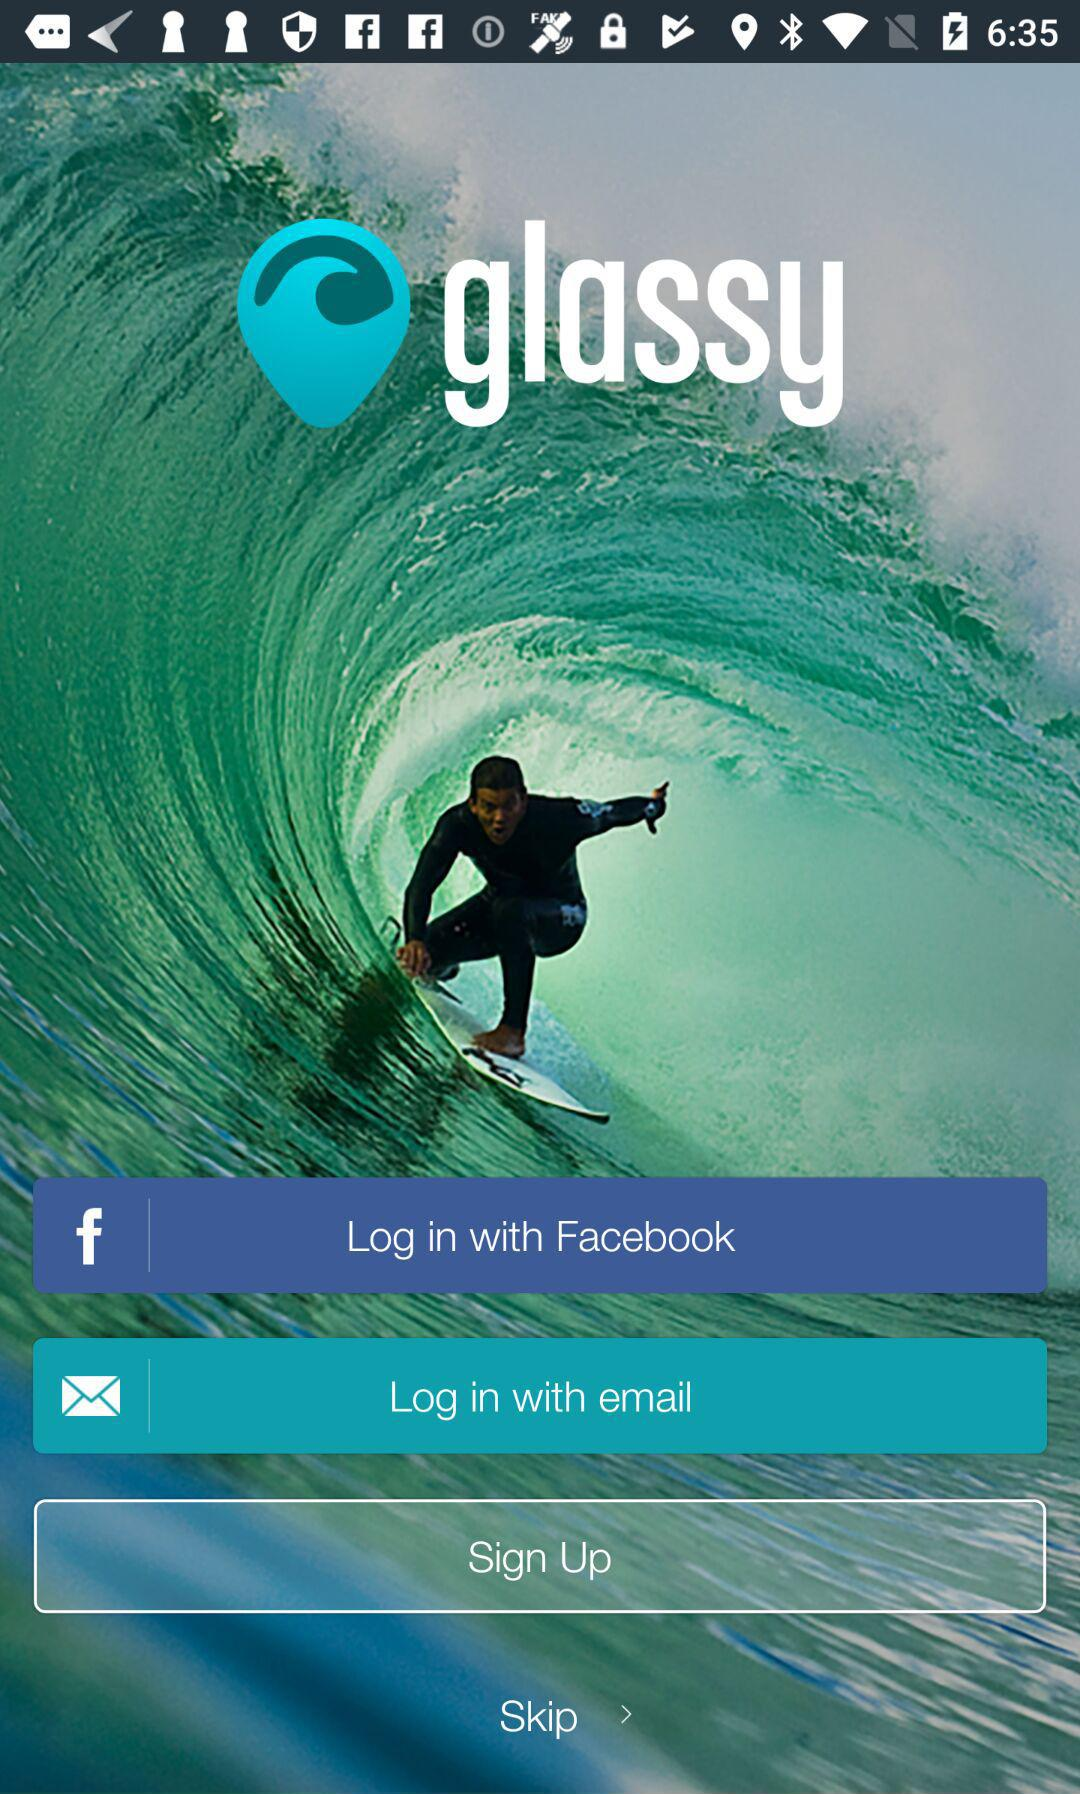BackgroundImage: (1, 64, 1080, 1794)
Icon: (620, 1704, 633, 1725)
Image: (236, 218, 846, 431)
Text: (500, 1699, 579, 1740)
TextButton: (33, 1338, 1048, 1454), (33, 1178, 1048, 1294), (35, 1498, 1047, 1615)
UpperTaskBar: (1, 1, 1080, 64)
